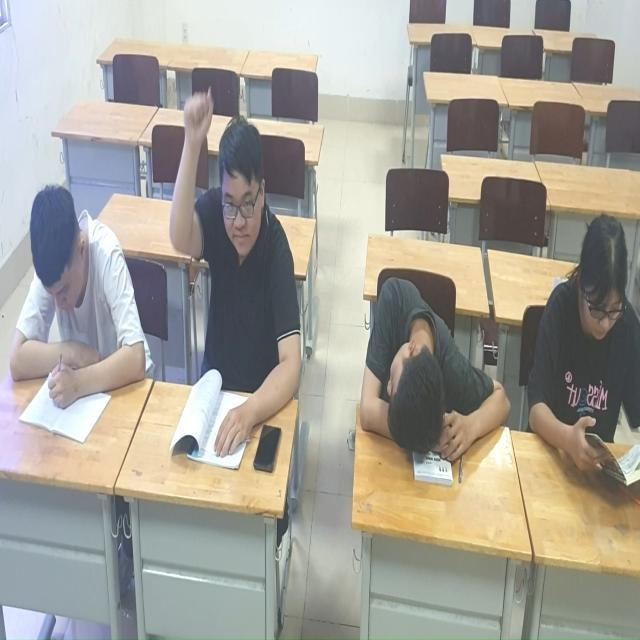raise_hand: (169, 85, 304, 462)
read: (6, 157, 143, 441), (514, 204, 640, 502)
sleep: (343, 282, 500, 488)
